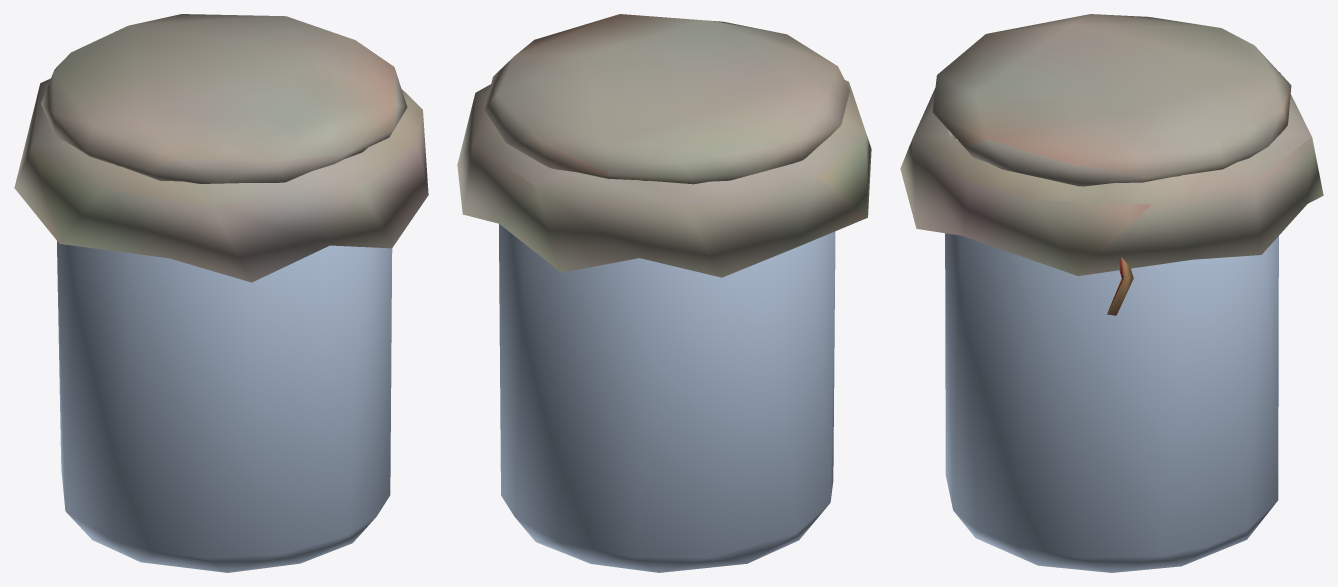
Rendered from pellet_jar_red.glb.
3 renders of one model, left to right at view 1: azimuth 30°, elevation 25°; view 2: azimuth 150°, elevation 25°; view 3: azimuth 270°, elevation 25°, orthographic.
Visible parts, largest first — view 1: prop_pellet_jar_red_glass, prop_pellet_jar_red_felt; view 2: prop_pellet_jar_red_glass, prop_pellet_jar_red_felt; view 3: prop_pellet_jar_red_glass, prop_pellet_jar_red_felt.
Part boxes in pixels (x1=…): prop_pellet_jar_red_glass: x1=57, y1=241, x2=392, y2=572; prop_pellet_jar_red_felt: x1=14, y1=14, x2=428, y2=282; prop_pellet_jar_red_glass: x1=499, y1=224, x2=835, y2=572; prop_pellet_jar_red_felt: x1=457, y1=14, x2=871, y2=277; prop_pellet_jar_red_glass: x1=945, y1=233, x2=1278, y2=572; prop_pellet_jar_red_felt: x1=900, y1=14, x2=1323, y2=315.
Size of the model in its own units: 0.2344 by 0.2576 by 0.228.
Materials: 2 (1 with a texture image).
